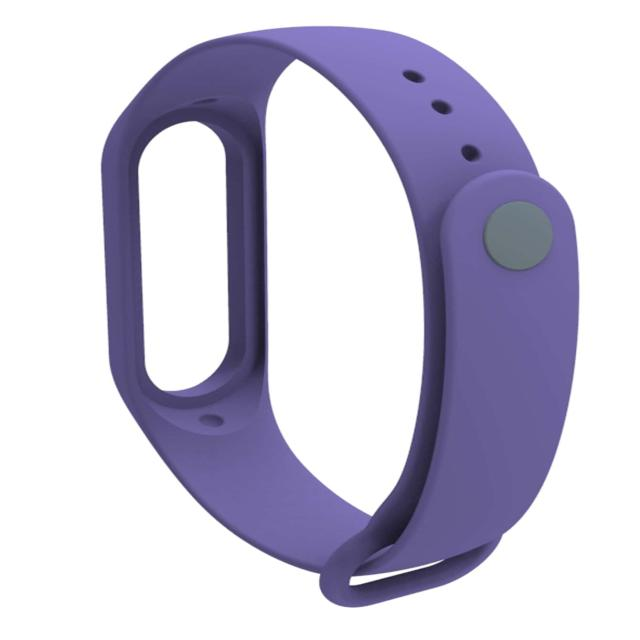bracelet: (54, 0, 639, 602)
